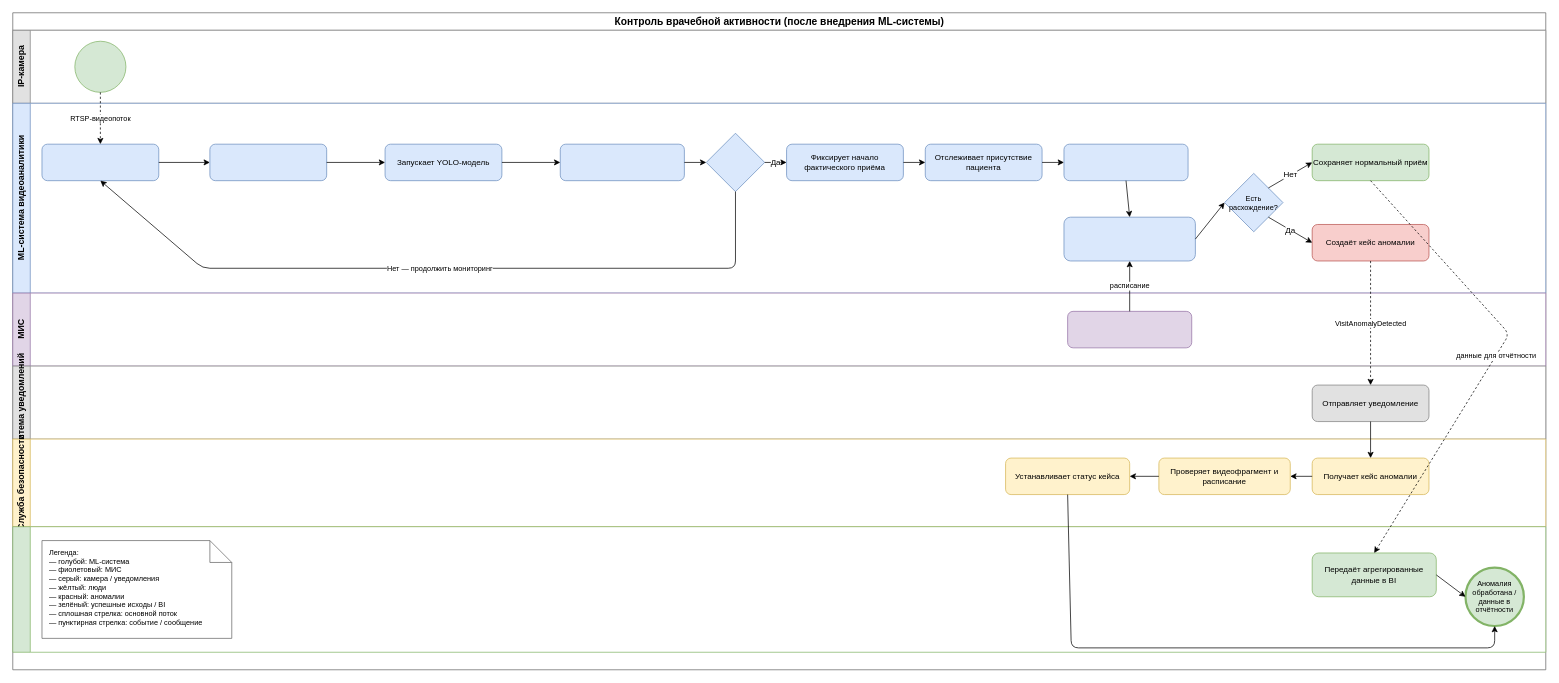
The diagram is 1559 pixels wide and 683 high, and some of its shapes have lost their labels. The box of each missing label's shape, as (x1, y1, x2, y2) in pixels:
BI / Superset: (12, 526, 1546, 652)
Камера передаёт RTSP-видеопоток: (74, 41, 126, 92)
Определяет присутствие пациента в кресле: (560, 143, 684, 181)
Отбирает кадры / видеофрагменты: (41, 143, 159, 181)
Пациент обнаружен?: (706, 132, 765, 192)
Предоставляет расписание приёмов: (1067, 311, 1192, 348)
Сопоставляет фактический интервал с расписанием: (1063, 216, 1195, 261)
Фиксирует окончание фактического приёма: (1063, 143, 1188, 181)
Формирует батч кадров: (209, 143, 327, 181)
